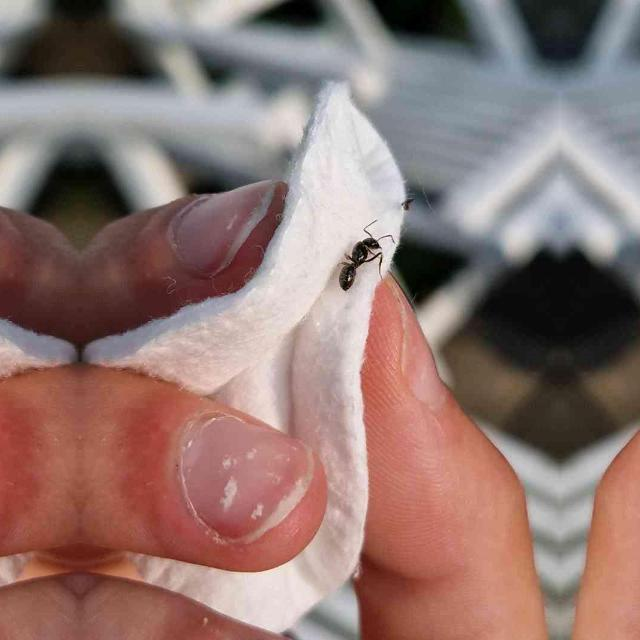Lasius: (330, 220, 386, 298)
